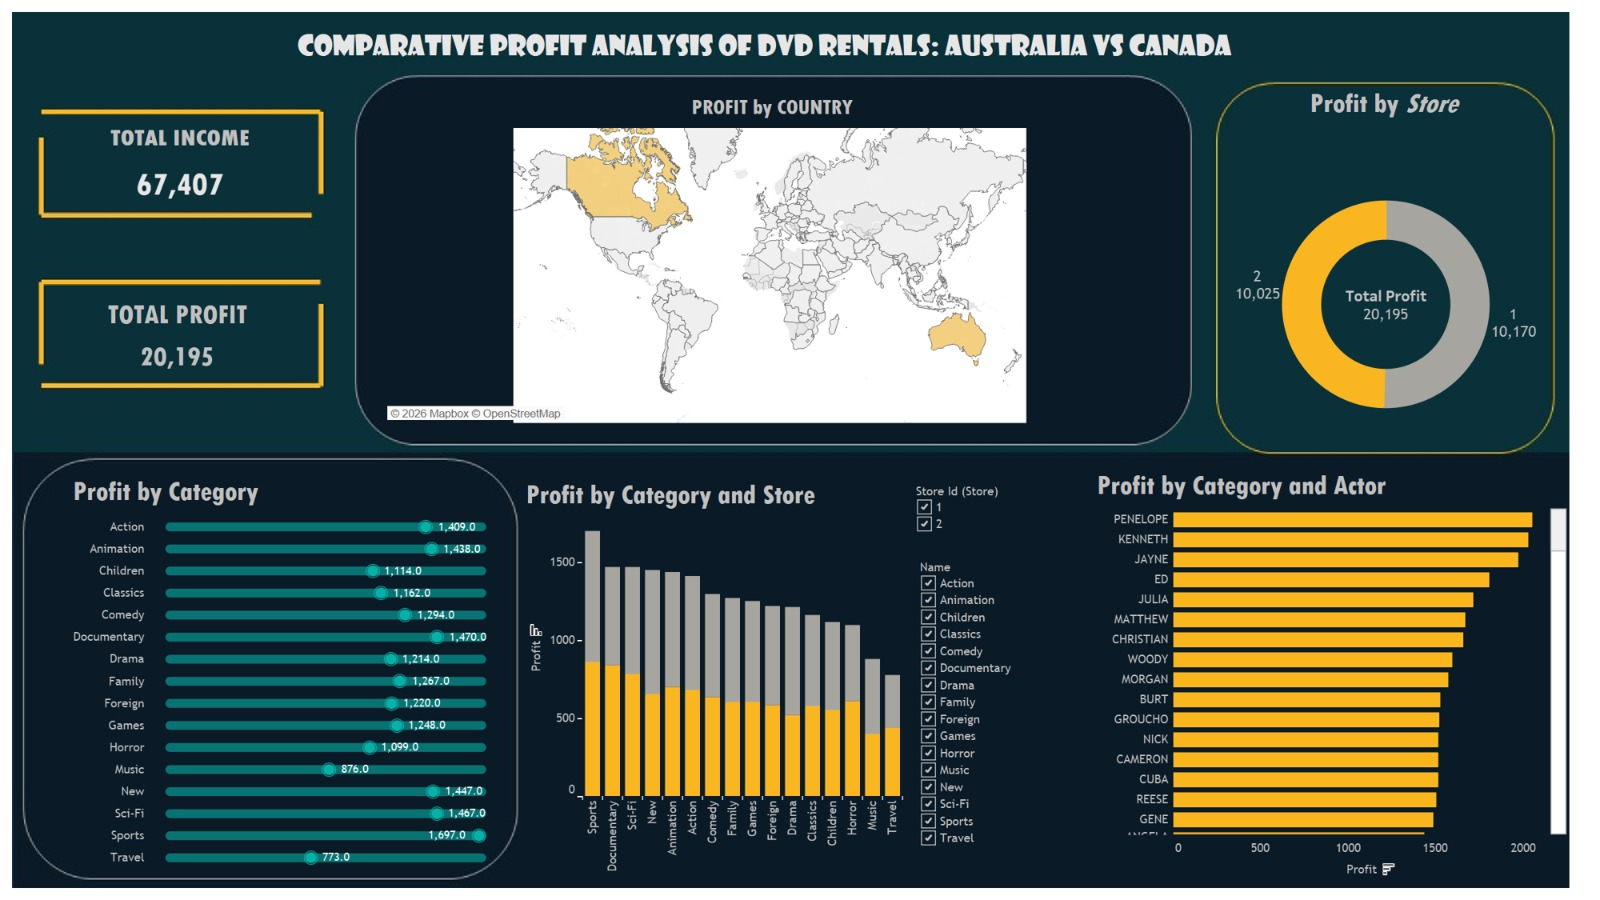

The page's visual inventory and layout, read from the dashboard file:
{"tool":"tableau","page":{"name":"Dashboard","canvas":[1600,900],"ordinal":0},"visuals":[{"type":"image","param":"D:/bg dasboard SIM.jpg","box":[8,8,1584,884]},{"type":"worksheet","title":"Judul","mark":"Automatic","box":[278,21,973,42]},{"type":"worksheet","title":"Profit by Store","mark":"Pie","cols":["Calculation_1488439677523988485","Calculation_1488439677524000775"],"box":[1219,82,333,399]},{"type":"worksheet","title":"Profit by Country","mark":"Automatic","box":[383,90,773,333]},{"type":"worksheet","title":"Total Penghasilan","mark":"Automatic","box":[53,118,254,91]},{"type":"worksheet","title":"Total Profit","mark":"Automatic","box":[31,293,293,82]},{"type":"worksheet","title":"Profit by Aktor and Category","mark":"Automatic","rows":["first_name"],"cols":["Calculation_997547386174754816"],"box":[1093,464,474,419]},{"type":"worksheet","title":"Profit by category fix","mark":"Line","rows":["name"],"cols":["Calculation_997547386174754816"],"box":[69,470,432,398]},{"type":"worksheet","title":"Profit by Category and Store","mark":"Automatic","rows":["Calculation_997547386174754816"],"cols":["name"],"box":[522,473,393,403]},{"type":"filter","title":"Profit by Category and Store","param":"[federated.1mi23hh1vjww7t14u1qat0hqgm3m].[none:store_id (store):ok]","box":[916,483,157,76]},{"type":"filter","title":"Profit by Aktor and Category","param":"[federated.1mi23hh1vjww7t14u1qat0hqgm3m].[none:name:nk]","box":[920,559,153,311]}]}

Visuals, with their boxes in screenshot pixels (x1, y1, x2, y2), scaled from the page's 1600x900 canvas onto the 1600x900 screenshot:
image: select_region(8, 8, 1592, 892)
"Judul" worksheet: select_region(278, 21, 1251, 63)
"Profit by Store" worksheet (Pie marks): select_region(1219, 82, 1552, 481)
"Profit by Country" worksheet: select_region(383, 90, 1156, 423)
"Total Penghasilan" worksheet: select_region(53, 118, 307, 209)
"Total Profit" worksheet: select_region(31, 293, 324, 375)
"Profit by Aktor and Category" worksheet: select_region(1093, 464, 1567, 883)
"Profit by category fix" worksheet (Line marks): select_region(69, 470, 501, 868)
"Profit by Category and Store" worksheet: select_region(522, 473, 915, 876)
"Profit by Category and Store" filter: select_region(916, 483, 1073, 559)
"Profit by Aktor and Category" filter: select_region(920, 559, 1073, 870)
